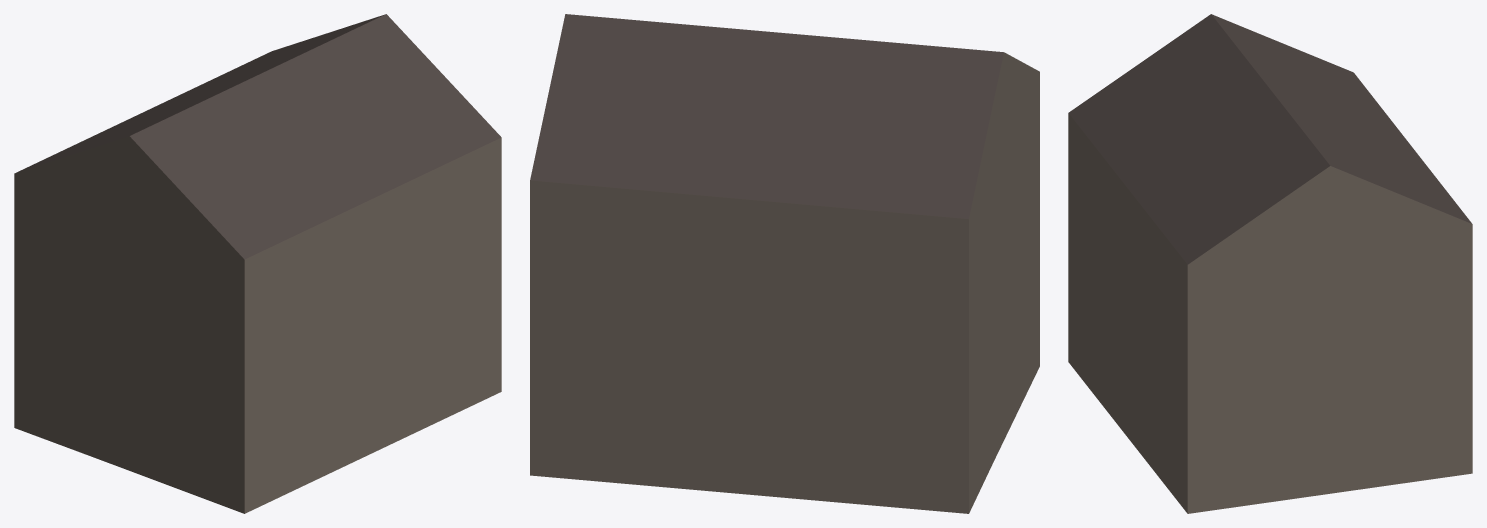
3 views of the same model, side by side, from view 1: azimuth 30°, elevation 25°; view 2: azimuth 150°, elevation 25°; view 3: azimuth 270°, elevation 25° (orthographic). The views are drawn at different scales.
Visible parts, largest first — view 1: HP-w1198645093; view 2: HP-w1198645093; view 3: HP-w1198645093.
Part boxes in pixels (<box>): HP-w1198645093: <box>14,14,501,513</box>; HP-w1198645093: <box>530,14,1039,513</box>; HP-w1198645093: <box>1068,14,1472,513</box>.
Size of the model in its own units: 9.94 by 7.9 by 8.83.
